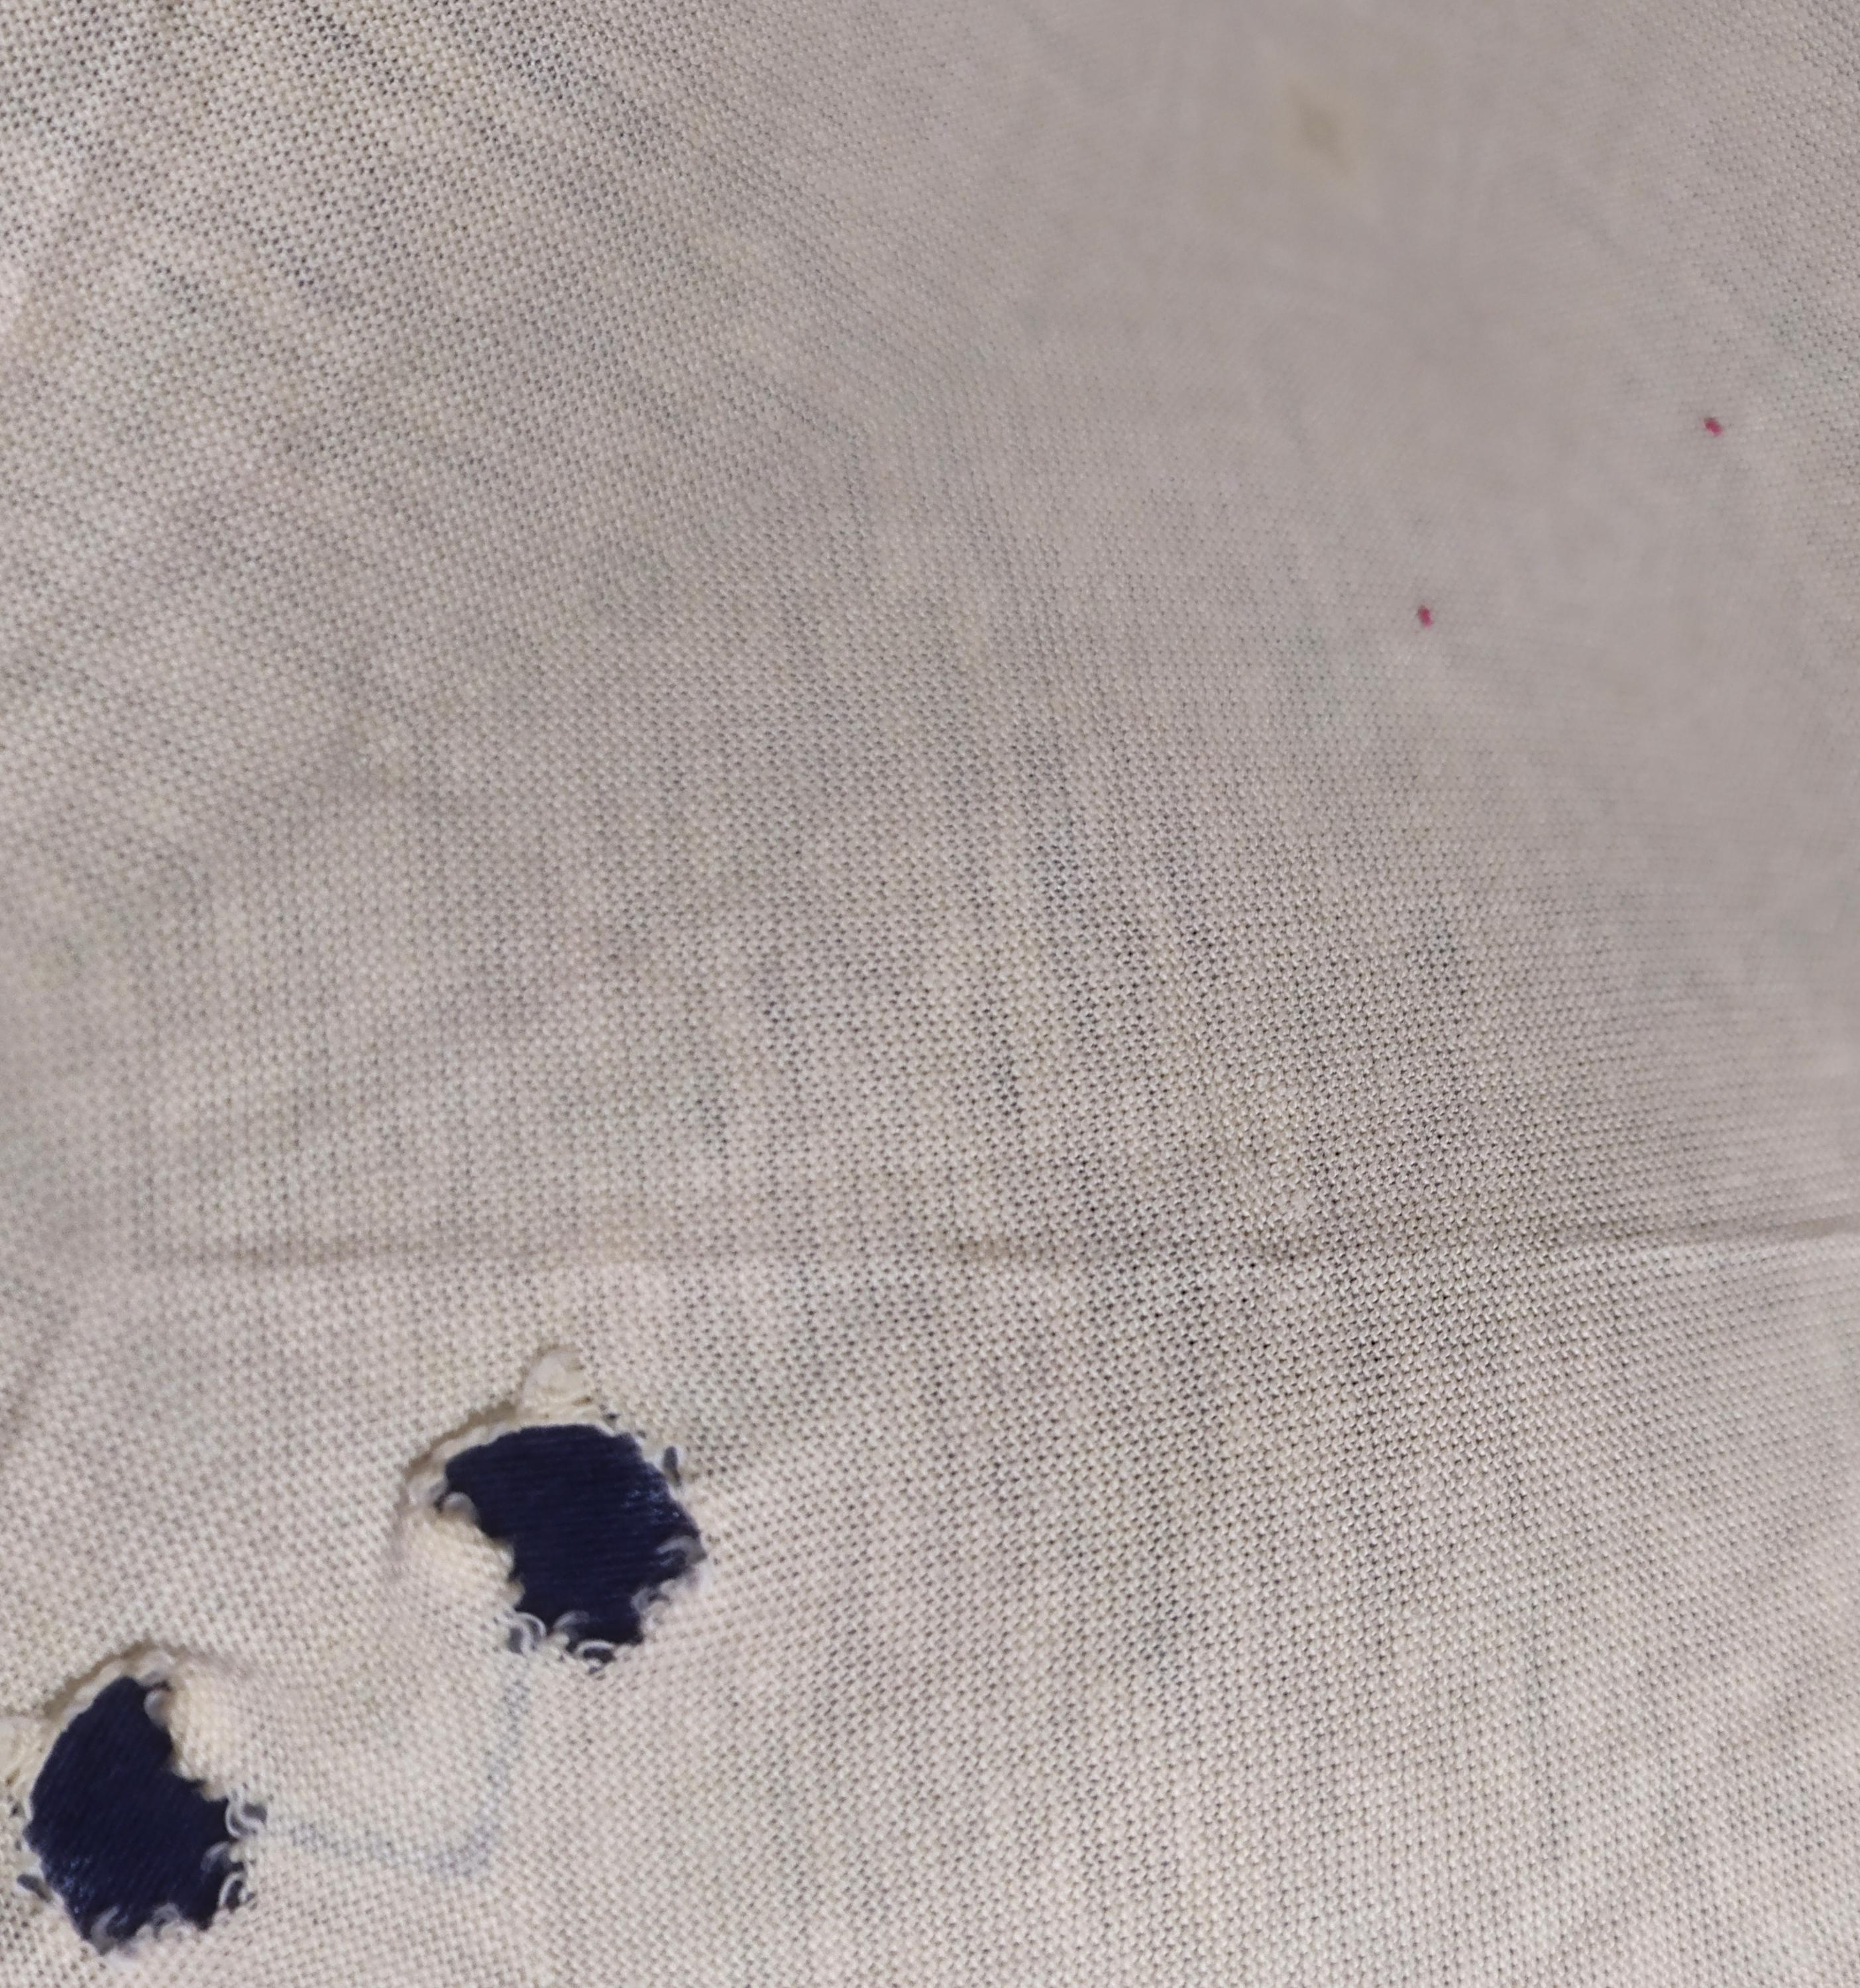hole: (385, 1367, 745, 1679), (10, 1644, 290, 1969)
